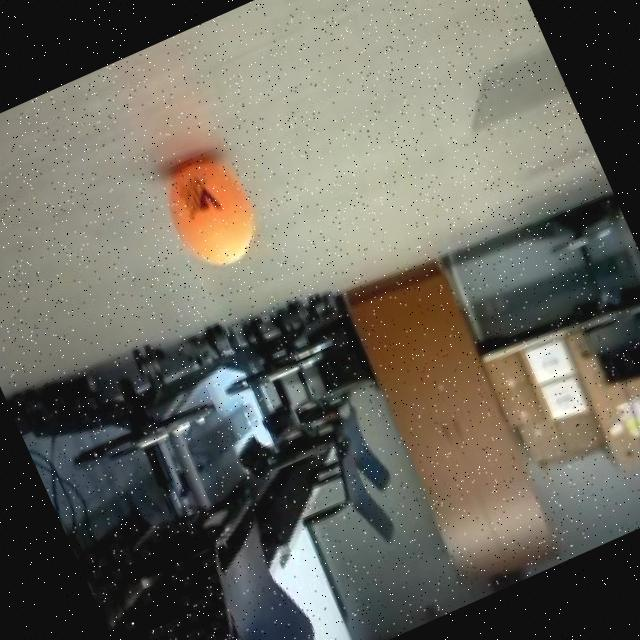ping-pong-ball: (144, 134, 274, 284)
